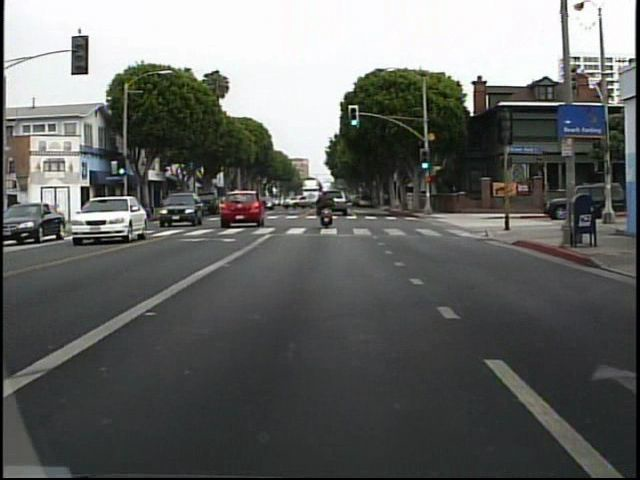person: (313, 186, 342, 233)
